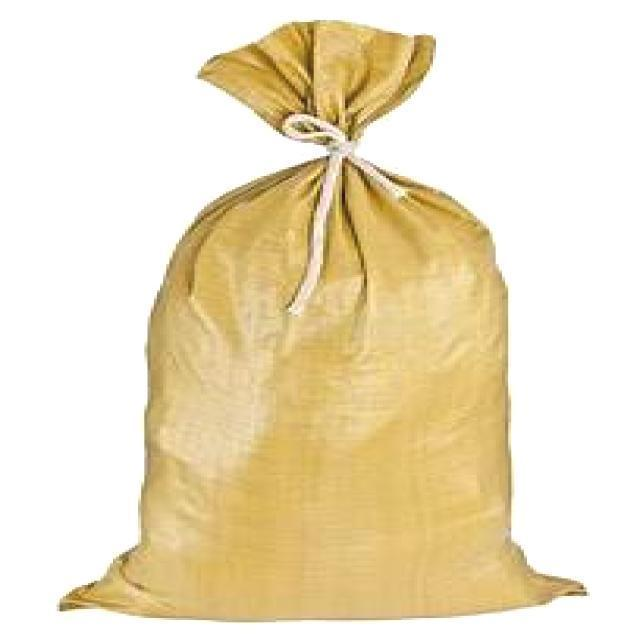gunny_bag: (45, 14, 598, 630)
